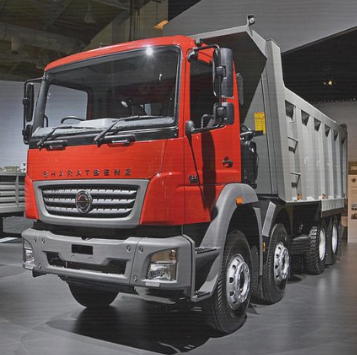truck: (24, 23, 349, 341)
